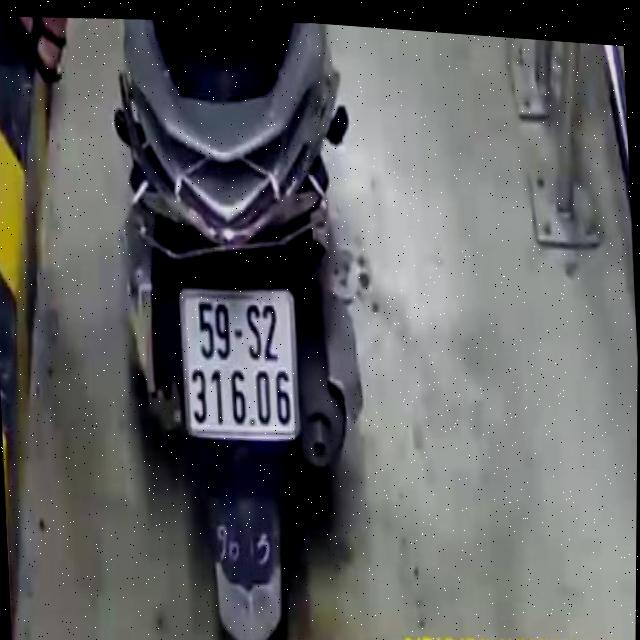motorcycle: (81, 6, 413, 640)
plate: (172, 276, 304, 448)
